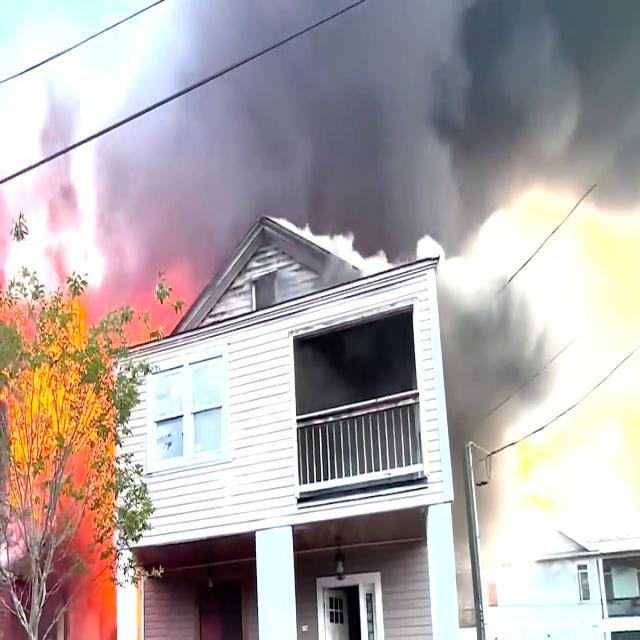Fire: (0, 274, 113, 640)
Smoke: (113, 0, 640, 229), (449, 248, 526, 458)
